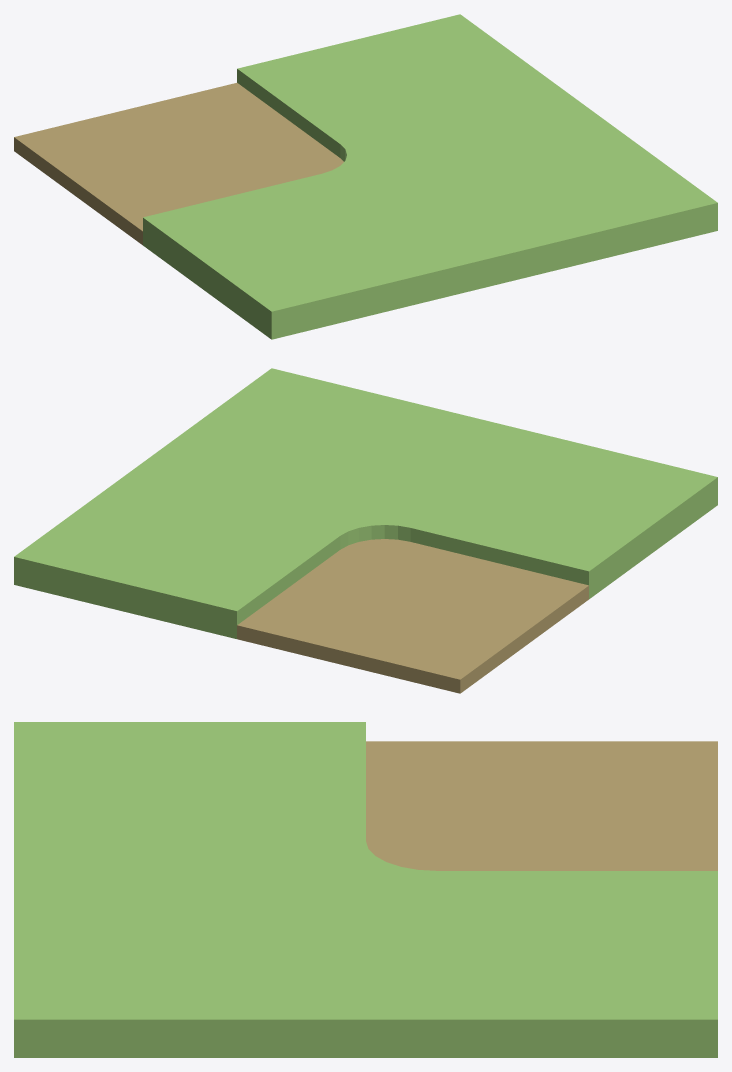
The model's file is Grass_Soil_Tile_1.fbx.
The picture shows the model from 3 angles, top to bottom: view 1: azimuth 30°, elevation 25°; view 2: azimuth 150°, elevation 25°; view 3: azimuth 270°, elevation 25°; orthographic projection. The views are drawn at different scales.
Parts seen in each view (by area): view 1: Cube; view 2: Cube; view 3: Cube.
Boxes of the visible parts, x1,y1,x2,y2 form: Cube: (14,14,717,339); Cube: (14,368,717,693); Cube: (14,722,717,1057).
Size of the model in its own units: 1 by 1 by 0.06.
